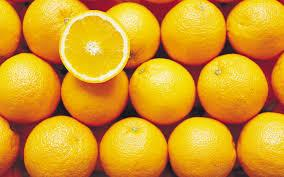non-mango: (130, 50, 267, 125), (58, 10, 128, 85)
